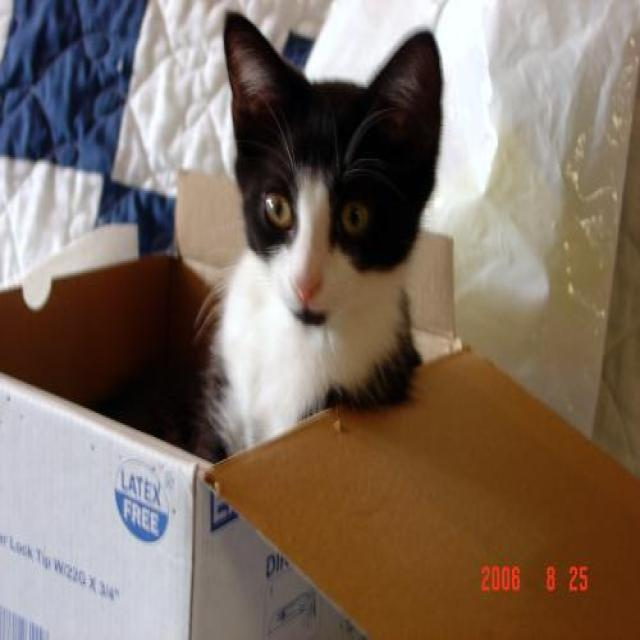Cats: (191, 9, 444, 458)
